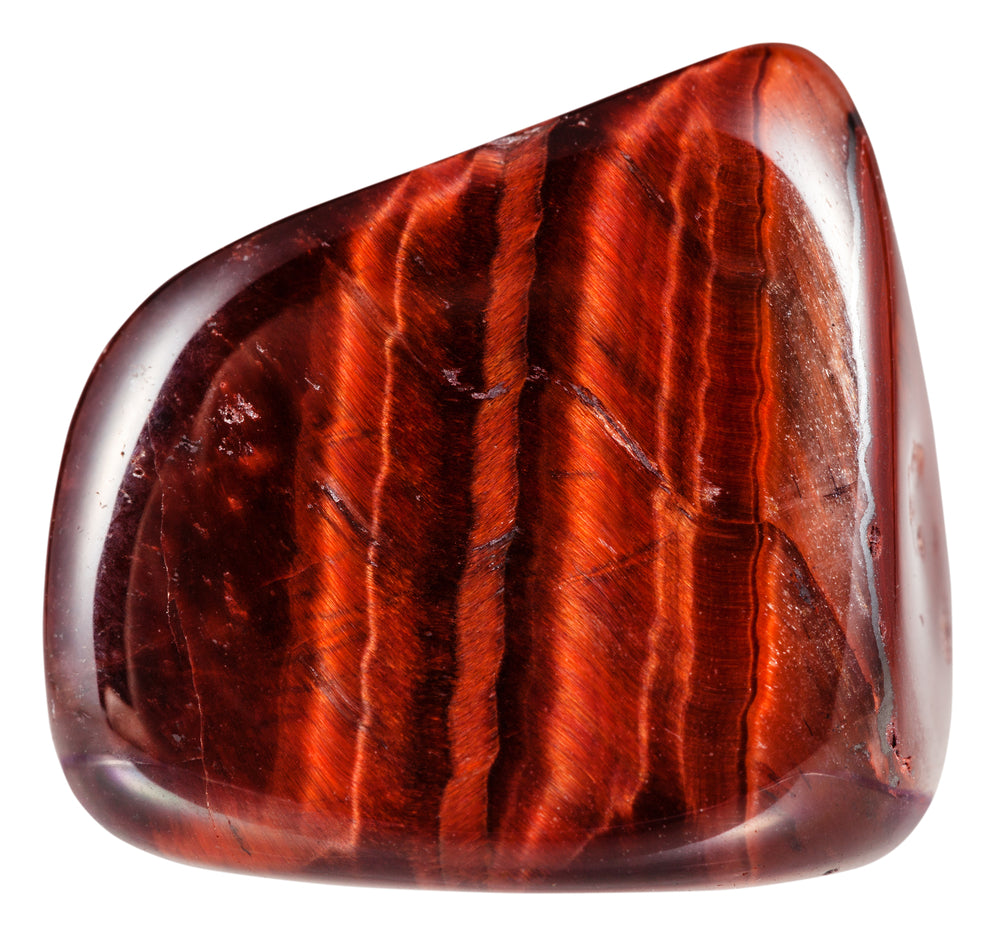Tigers_Eye: (42, 41, 958, 899)
